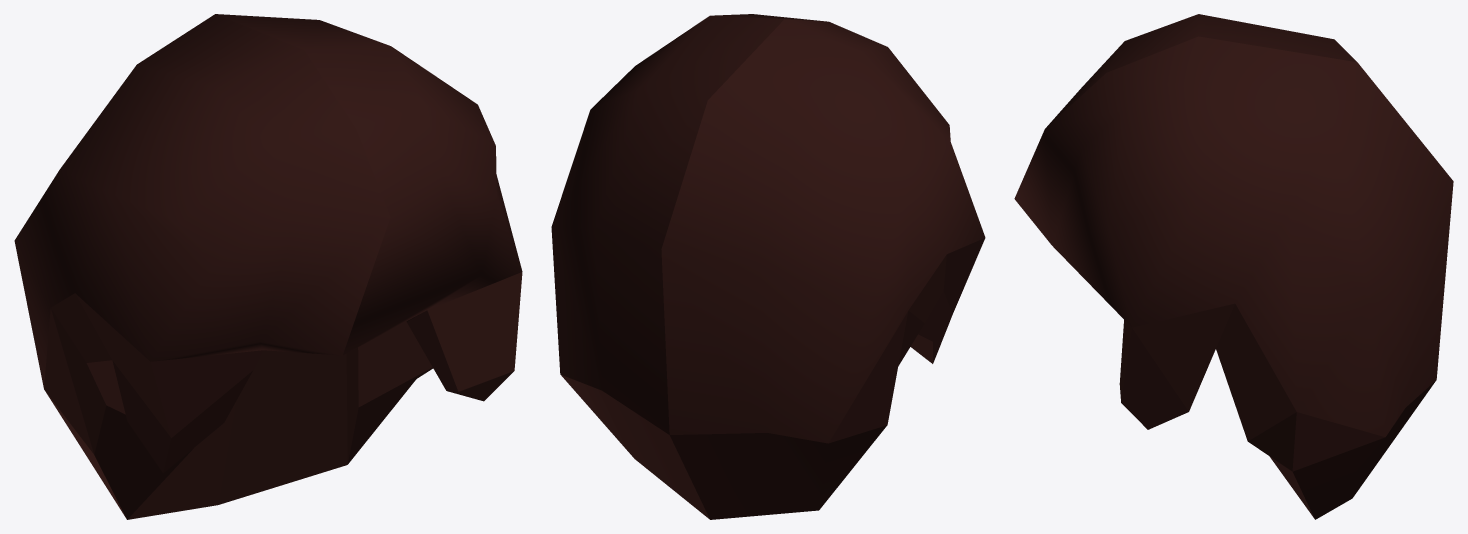
Rendered from HairMediumBrown.fbx.
3 views of the same model, side by side, from view 1: azimuth 30°, elevation 25°; view 2: azimuth 150°, elevation 25°; view 3: azimuth 270°, elevation 25° (orthographic). The views are drawn at different scales.
Visible parts, largest first — view 1: HairMediumBrown; view 2: HairMediumBrown; view 3: HairMediumBrown.
Boxes of the visible parts, x1=… form: HairMediumBrown: x1=14, y1=14, x2=522, y2=519; HairMediumBrown: x1=551, y1=14, x2=985, y2=519; HairMediumBrown: x1=1014, y1=14, x2=1453, y2=519.
Size of the model in its own units: 54.2 by 67.38 by 58.05.
